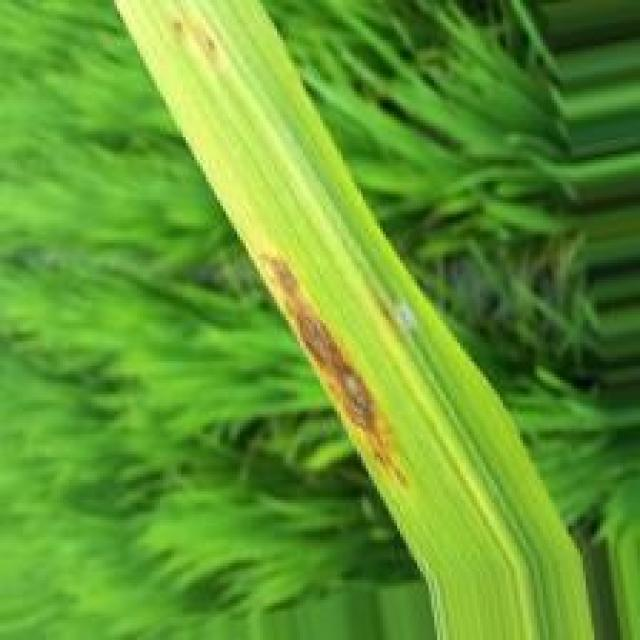Leaf_Blast: (257, 242, 412, 504)
